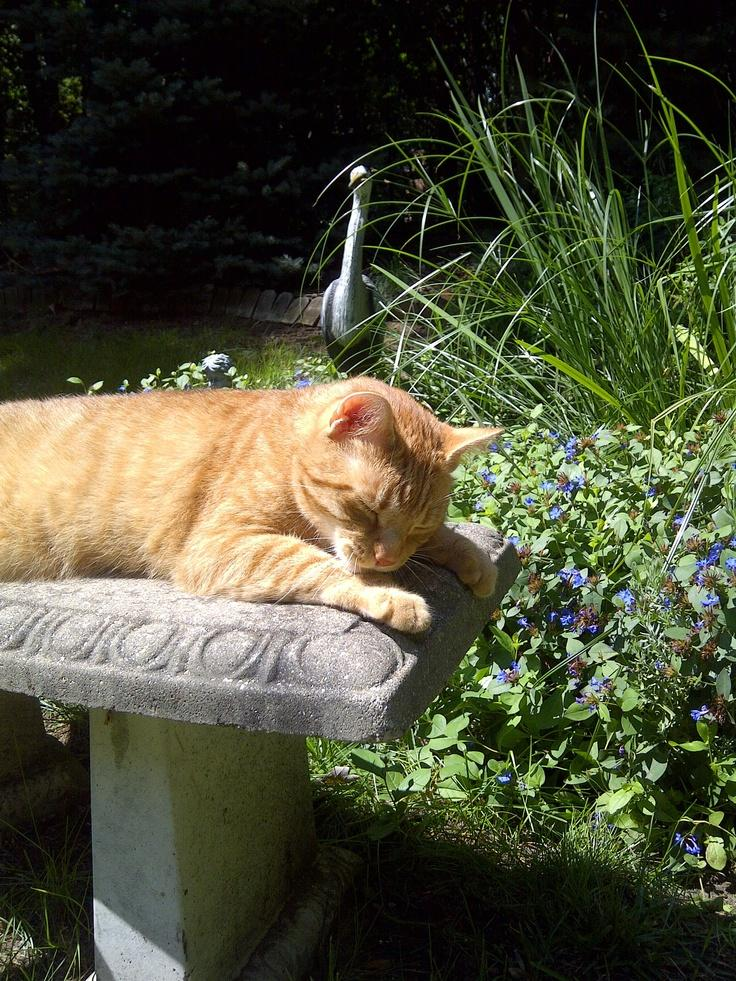kedo: (2, 356, 512, 639)
